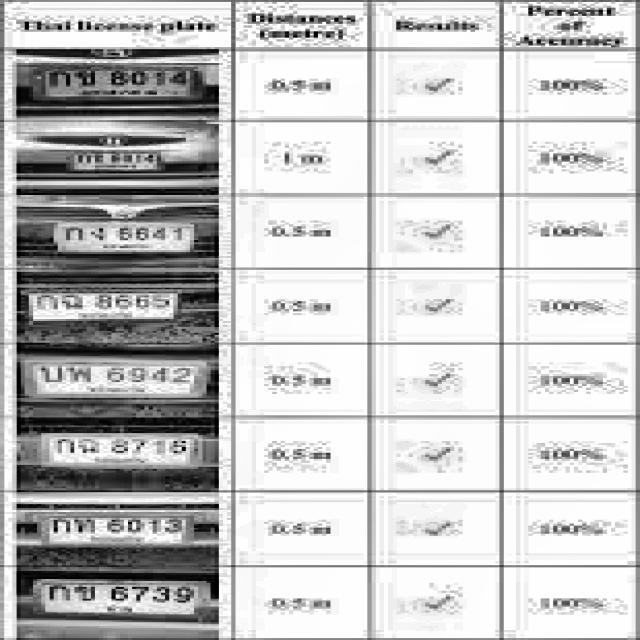license-plate: (32, 578, 214, 622), (26, 359, 207, 398), (38, 431, 205, 468), (32, 66, 205, 100), (38, 515, 191, 549), (52, 220, 195, 251), (24, 292, 182, 320), (72, 148, 166, 173)
